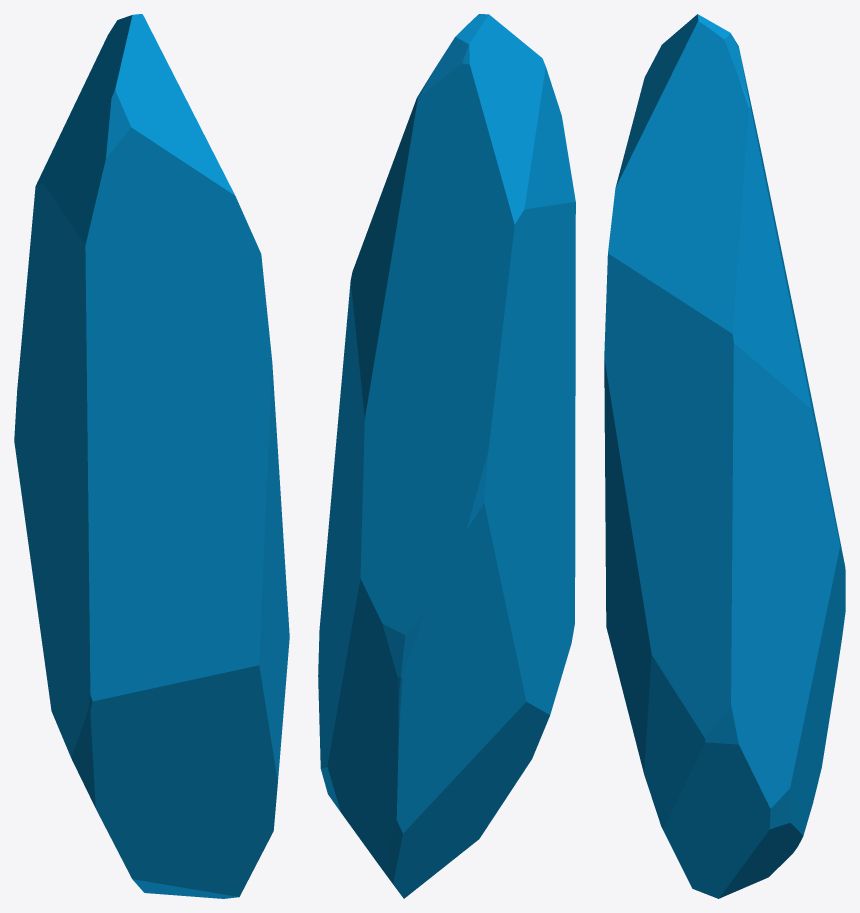
Rendered from iceSpike4.fbx.
3 views of the same model, side by side, from view 1: azimuth 30°, elevation 25°; view 2: azimuth 150°, elevation 25°; view 3: azimuth 270°, elevation 25° (orthographic). The views are drawn at different scales.
Parts seen in each view (by area): view 1: Sphere.014; view 2: Sphere.014; view 3: Sphere.014.
Boxes of the visible parts, <box> form: Sphere.014: <box>14,14,289,898</box>; Sphere.014: <box>318,14,575,898</box>; Sphere.014: <box>604,14,845,898</box>.
Bounding box in the file's own units: 150 × 573 × 149.
